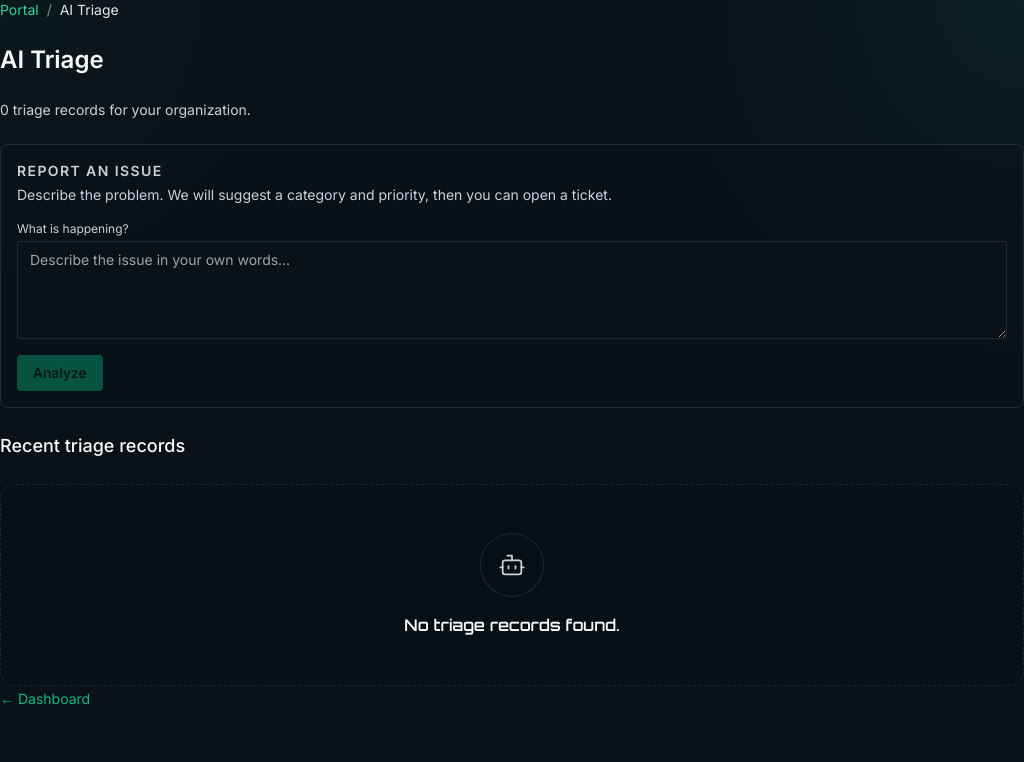
AiTriagePage › analyzes a description and shows the suggested triage
Type "The VPN keeps dropping for our team" into the text box with placeholder "Describe the issue in your own words…" at (512, 290), box [17,241,1007,339]
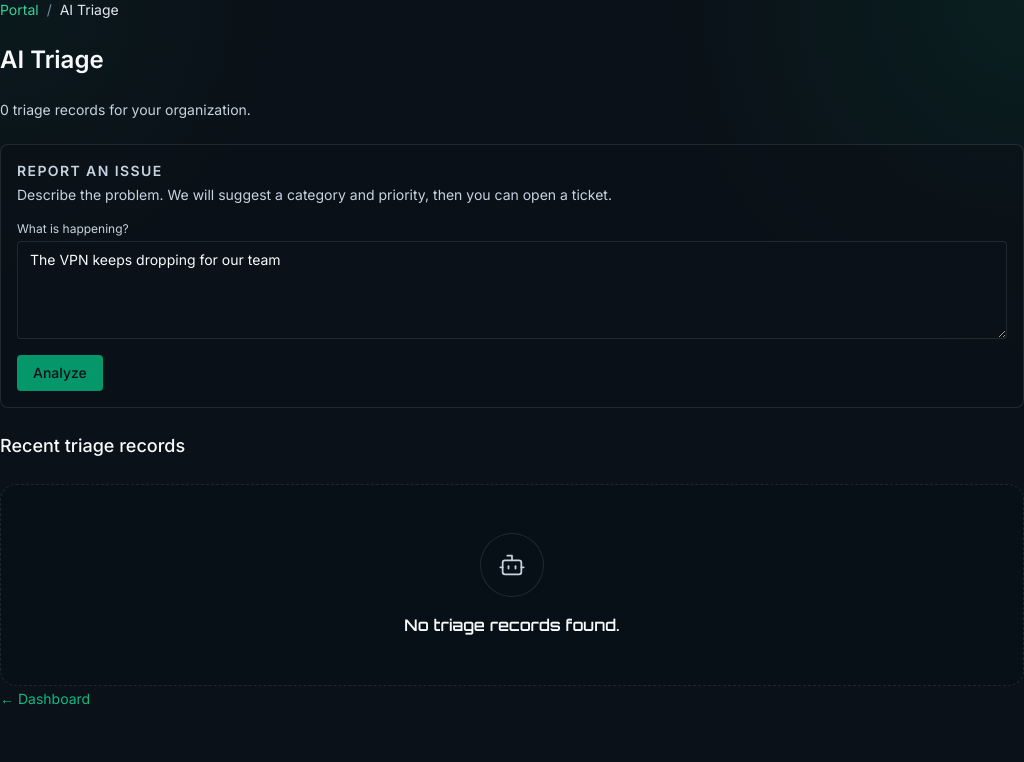
Click the button "Analyze" at (60, 373), box [17,355,103,391]
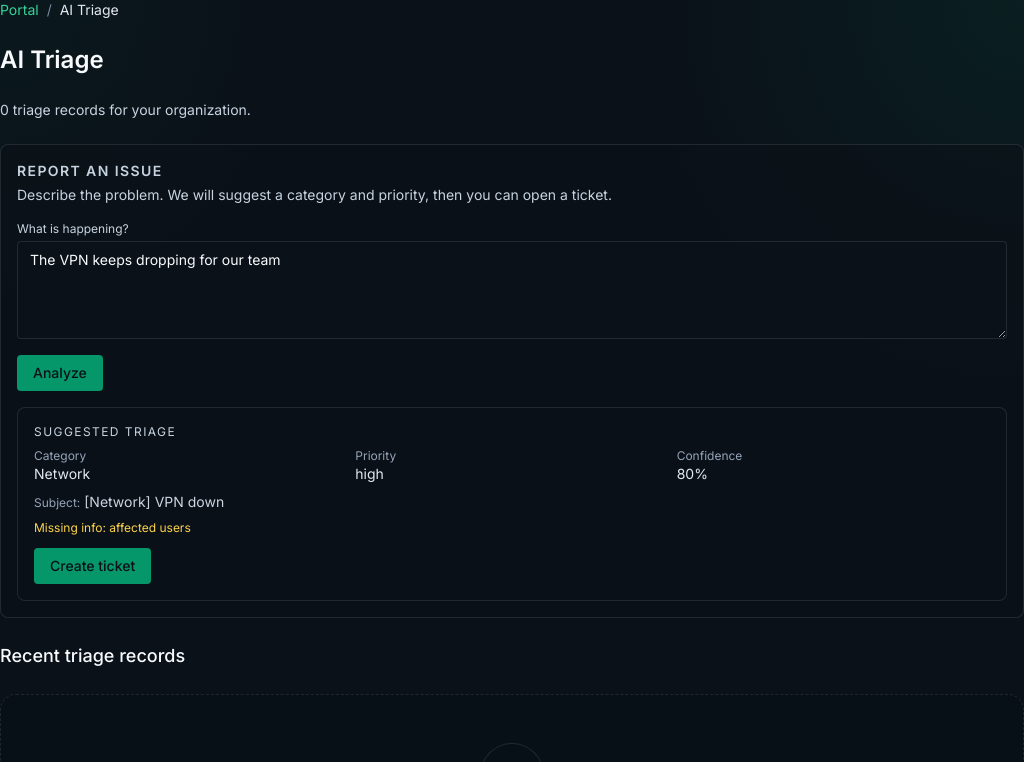
Result: the text "Network" is shown at [34,465,90,482]
Result: the text "Subject: [Network] VPN down" is shown at [34,493,224,510]
Result: the text "Missing info: affected users" is shown at [34,520,191,535]
